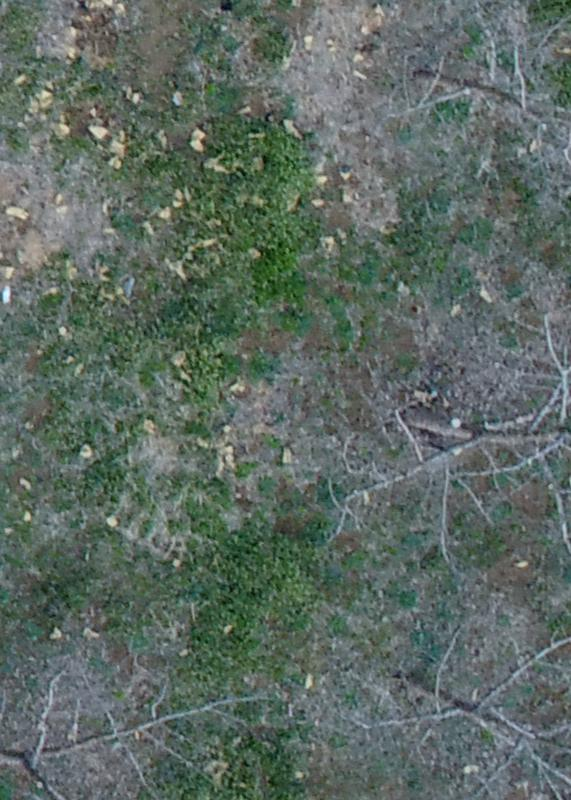apple: (330, 352, 561, 555), (10, 643, 269, 790), (359, 622, 561, 790), (379, 12, 561, 195)
